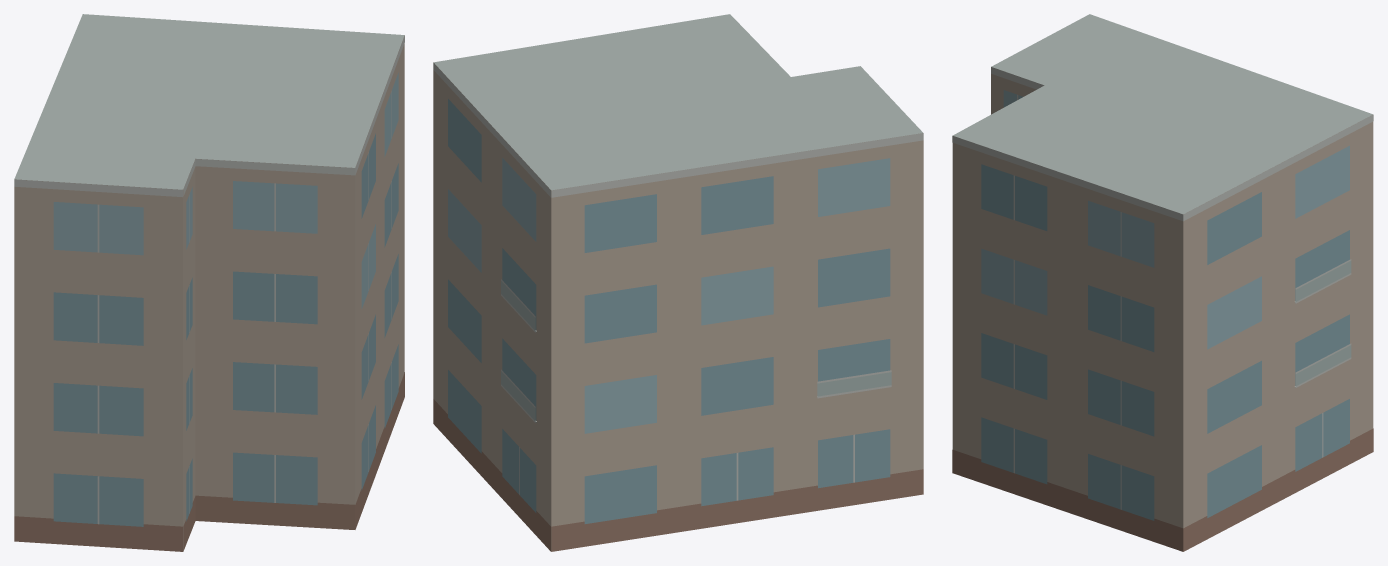
Rendered from survey-upis-33005969.glb.
3 renders of one model, left to right at view 1: azimuth 30°, elevation 25°; view 2: azimuth 150°, elevation 25°; view 3: azimuth 270°, elevation 25°, orthographic. The views are drawn at different scales.
Parts seen in each view (by area): view 1: survey-upis-33005969.tmp; view 2: survey-upis-33005969.tmp; view 3: survey-upis-33005969.tmp.
Part boxes in pixels (box(x1,y1,x2,y2)): survey-upis-33005969.tmp: box(14, 14, 404, 551); survey-upis-33005969.tmp: box(433, 14, 923, 551); survey-upis-33005969.tmp: box(952, 14, 1373, 551).
Size of the model in its own units: 15.13 by 11.87 by 13.43.
